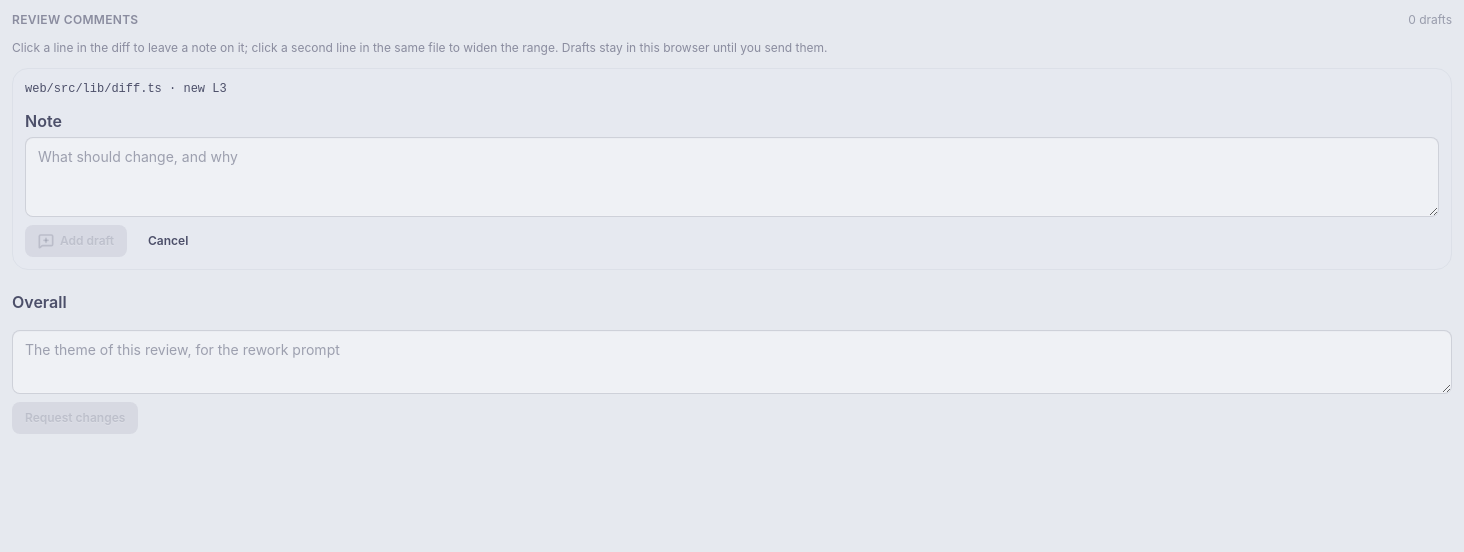
Test: CommentThreads › drafts › edits a draft in place and says it is updating rather than adding
Type "Name this constant." into the text box labelled "Note" at point(732, 177), box x1=25 y1=137 x2=1439 y2=217
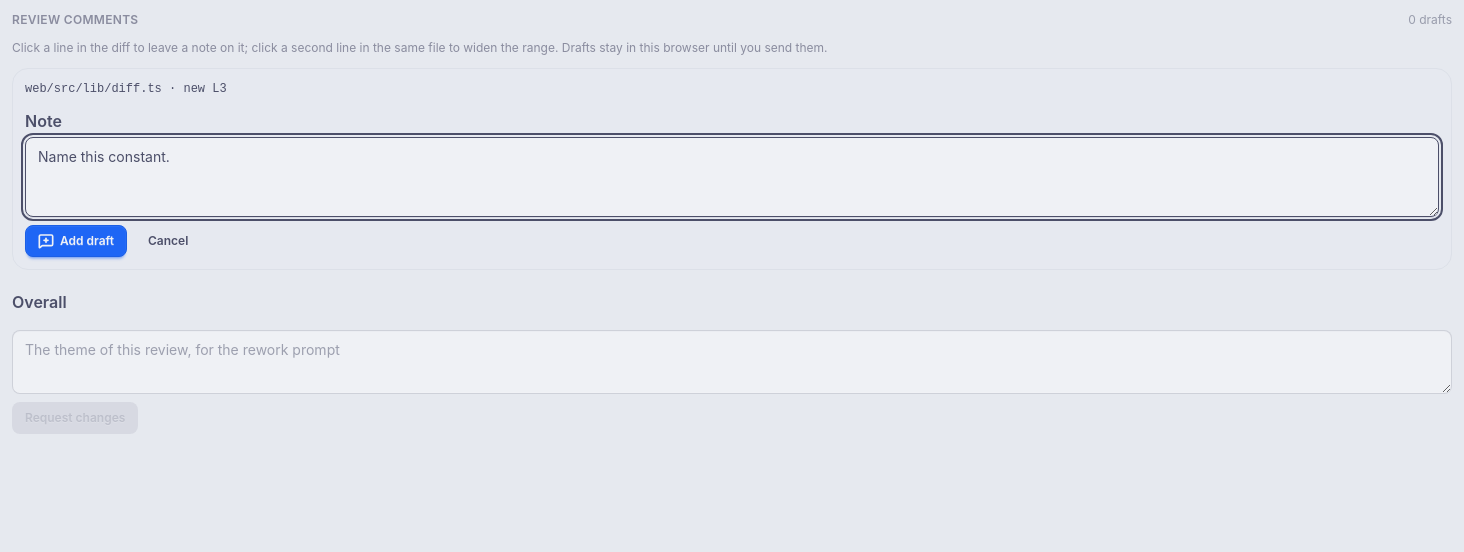
Click the button "Add draft" at point(76, 241), box x1=25 y1=225 x2=127 y2=257
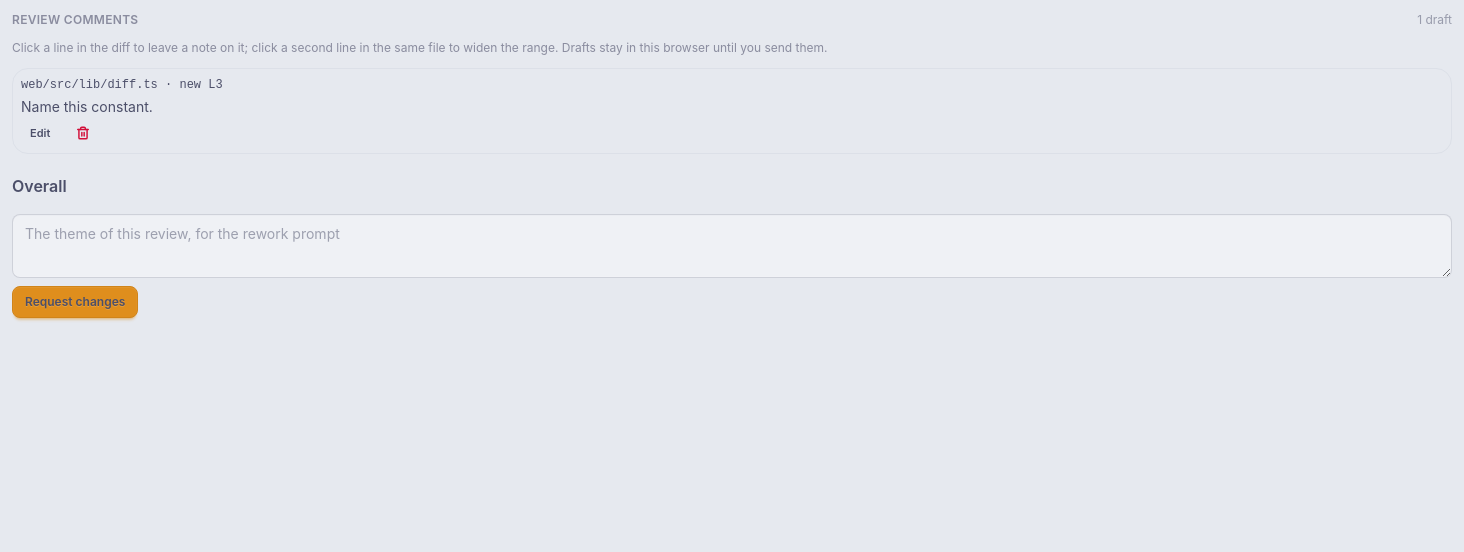
Click the button "Edit" at point(40, 133), box x1=21 y1=121 x2=59 y2=145
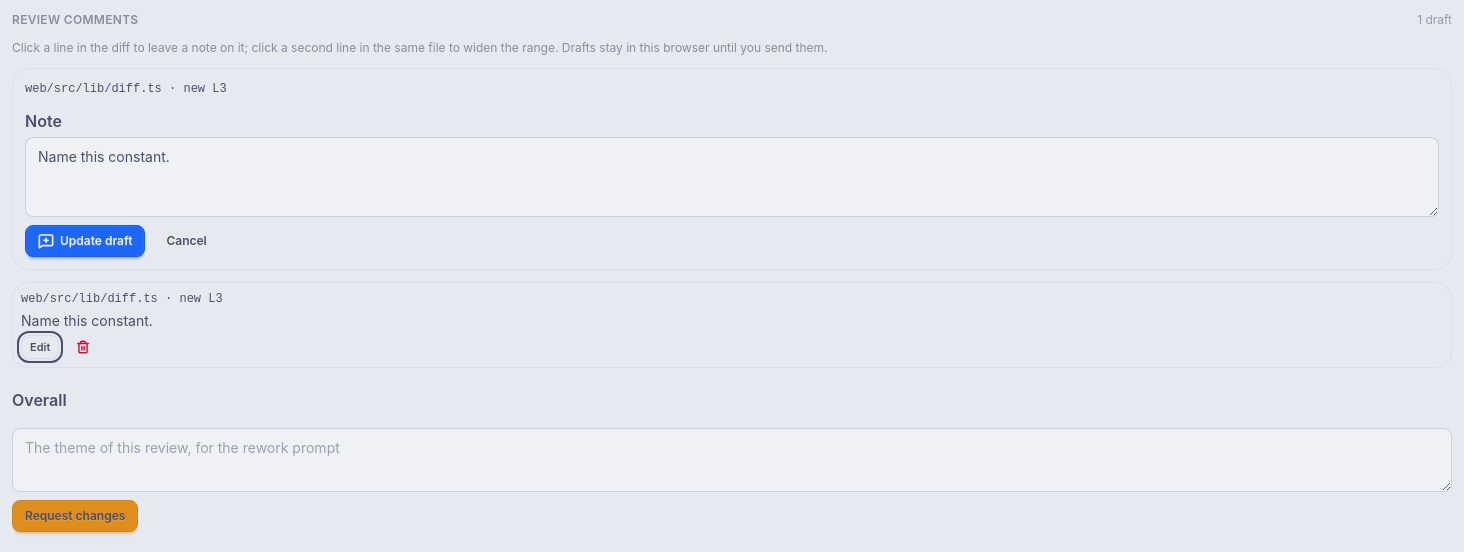
Now the button "Update draft" is shown, box x1=25 y1=225 x2=145 y2=257
Now the text box labelled "Note" holds "Name this constant."
Replace the text in the text box labelled "Note" with "Third time." at point(732, 177), box x1=25 y1=137 x2=1439 y2=217
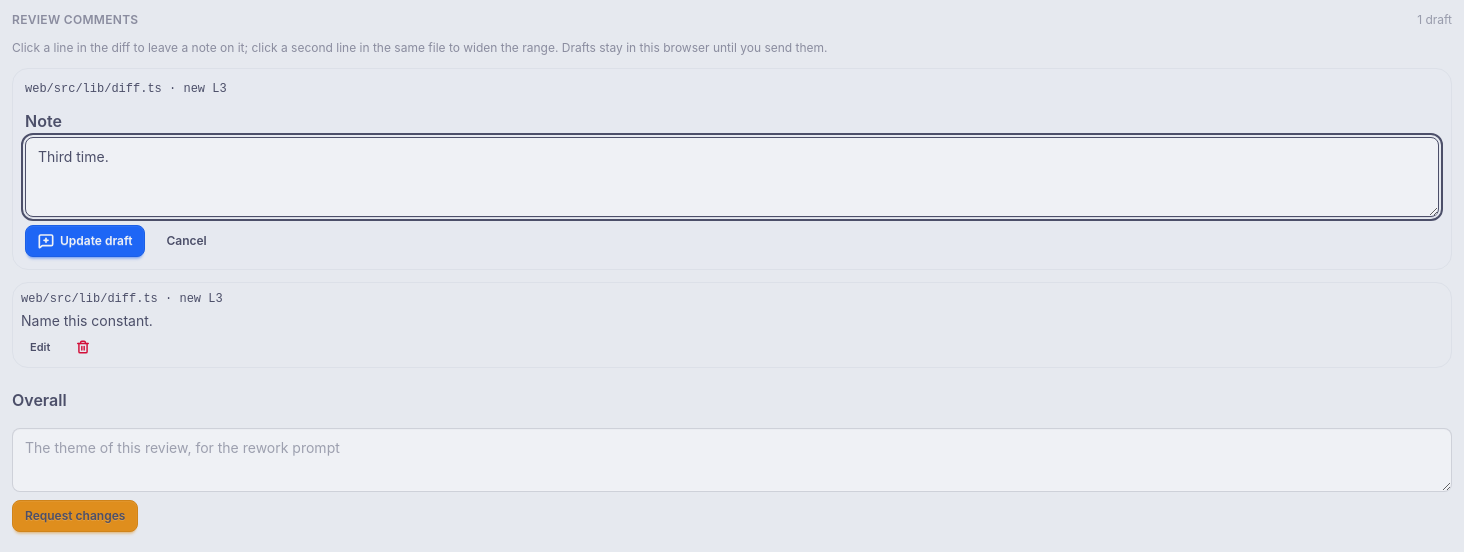
Click the button "Update draft" at point(85, 241), box x1=25 y1=225 x2=145 y2=257
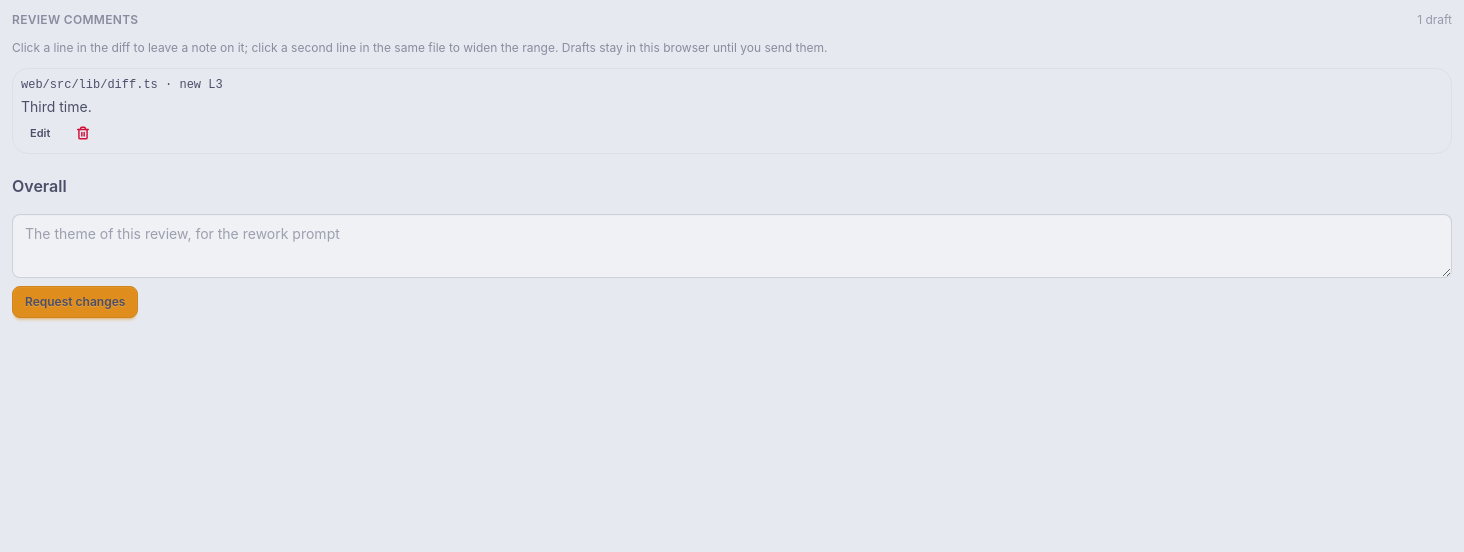
Now the text "Third time." is shown, box x1=21 y1=98 x2=92 y2=115
Now the text "Name this constant." is gone
